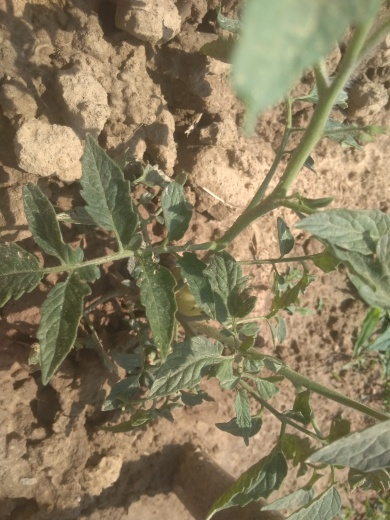tomato plant: (7, 148, 254, 390)
